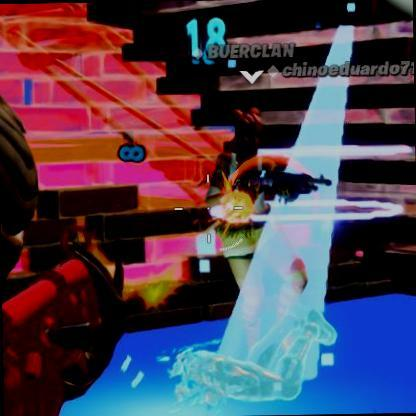person: (222, 122, 308, 358)
